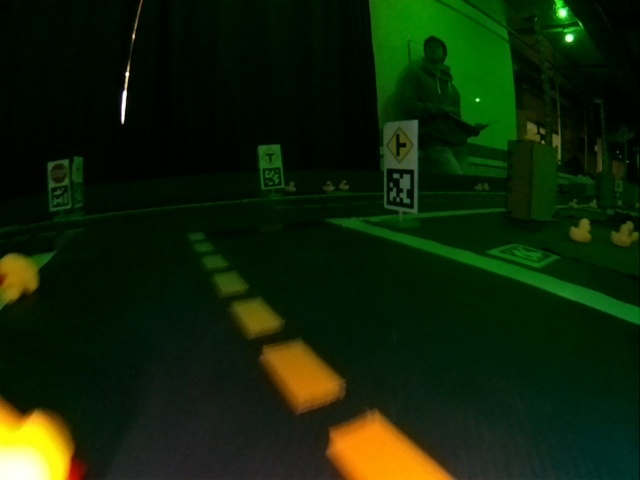Duckie: (2, 253, 39, 301), (570, 218, 592, 241), (613, 227, 631, 247), (322, 181, 334, 191), (339, 180, 349, 190), (287, 183, 297, 193)
Intersection sign: (387, 125, 413, 163), (260, 147, 280, 166)
QR code: (491, 243, 558, 267), (384, 167, 418, 210), (50, 186, 69, 208), (261, 168, 282, 187), (73, 184, 83, 207)
Stop sign: (48, 161, 69, 184)
